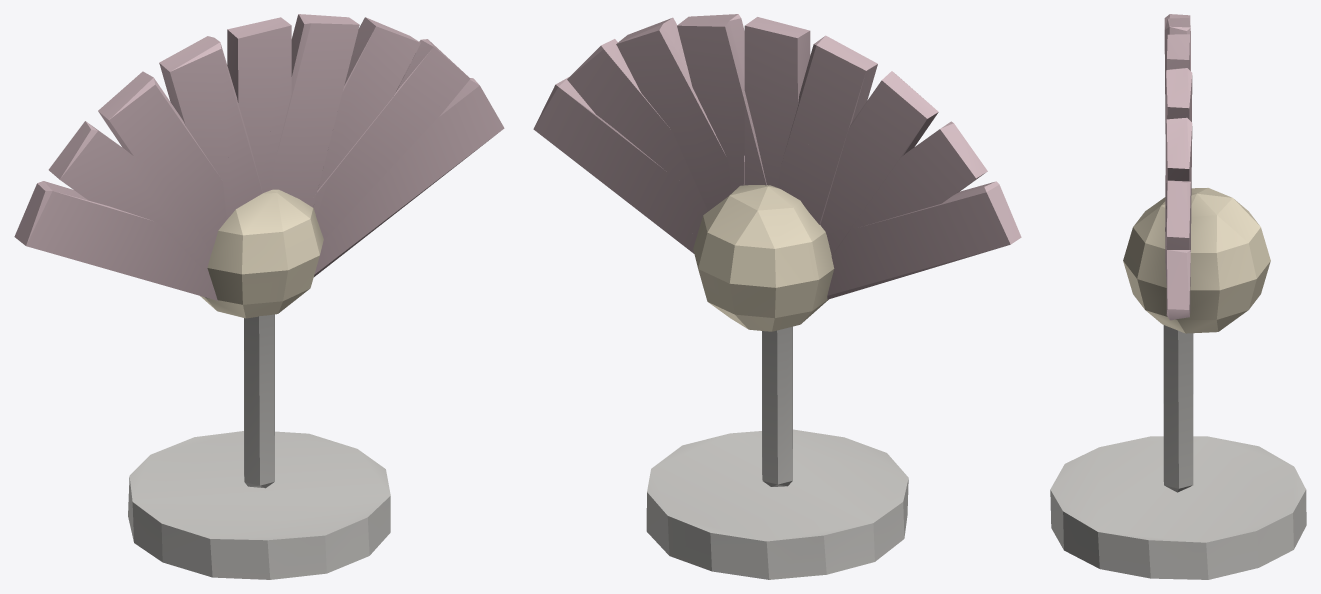
The model's file is furn_shell_lamp__pink_low.glb.
3 renders of one model, left to right at view 1: azimuth 30°, elevation 25°; view 2: azimuth 150°, elevation 25°; view 3: azimuth 270°, elevation 25°, orthographic. The views are drawn at different scales.
Bounding box in the file's own units: 0.5773 × 0.5745 × 0.2774.
